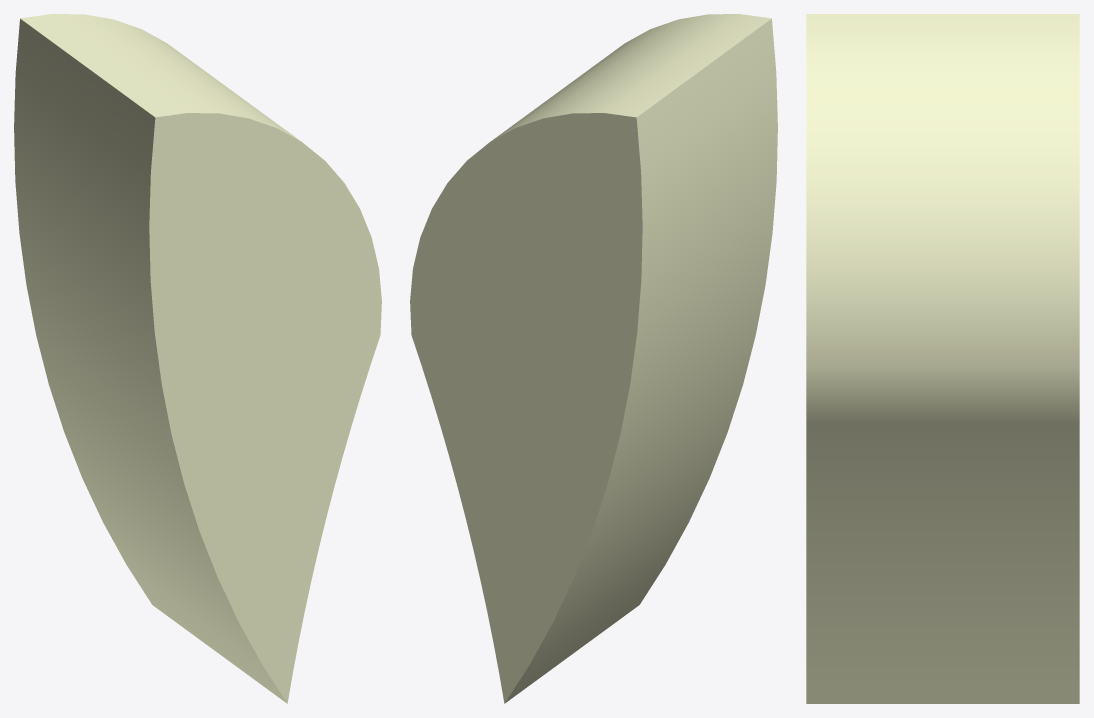
Rendered from original-81.obj.
3 renders of one model, left to right at view 1: azimuth 30°, elevation 25°; view 2: azimuth 150°, elevation 25°; view 3: azimuth 270°, elevation 25°, orthographic.
Visible parts, largest first — view 1: Group81/mesh156/mesh156-geometry#mesh156-geometry; view 2: Group81/mesh156/mesh156-geometry#mesh156-geometry; view 3: Group81/mesh156/mesh156-geometry#mesh156-geometry.
Boxes of the visible parts, bbox=[...] form: Group81/mesh156/mesh156-geometry#mesh156-geometry: bbox=[14, 14, 381, 703]; Group81/mesh156/mesh156-geometry#mesh156-geometry: bbox=[410, 14, 777, 703]; Group81/mesh156/mesh156-geometry#mesh156-geometry: bbox=[806, 14, 1079, 703].
Size of the model in its own units: 0.0543 by 0.1381 by 0.0547.
